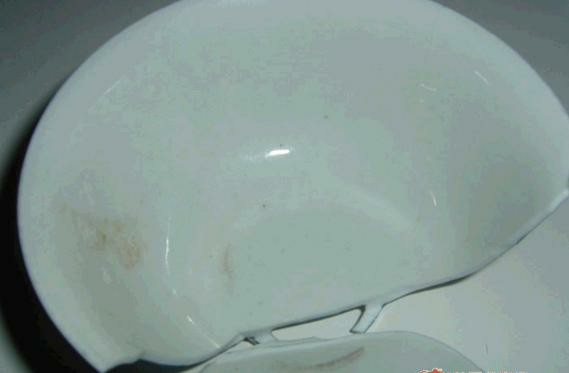ceramics: (7, 3, 569, 373)
